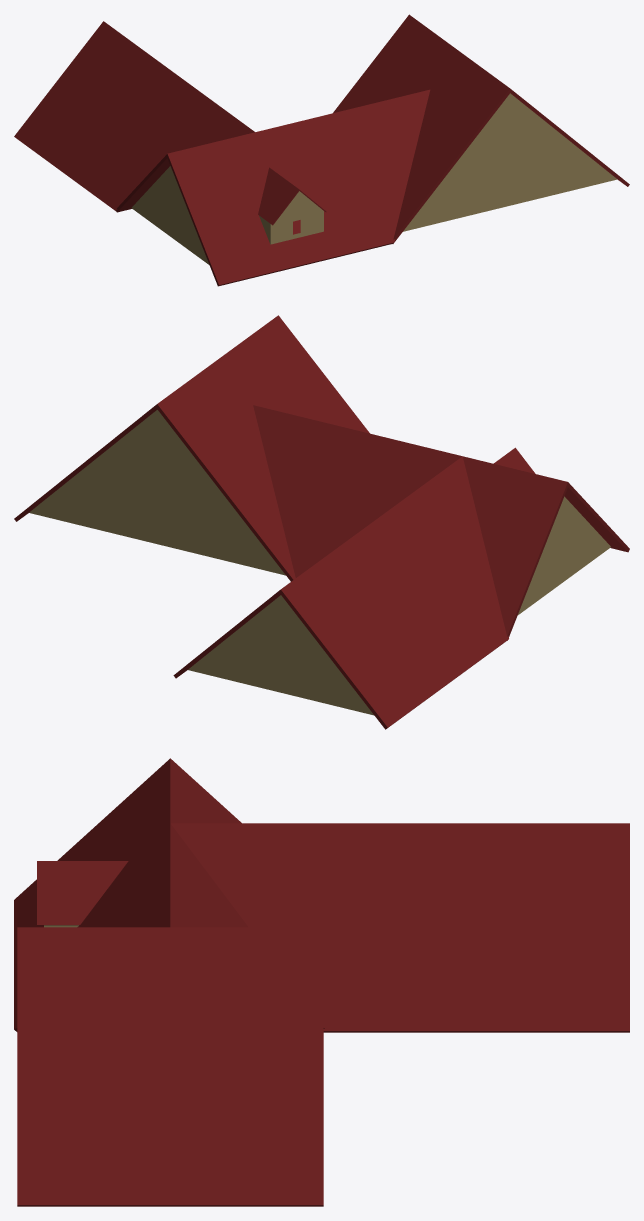
The model's file is Main_Roof.fbx.
3 renders of one model, top to bottom at view 1: azimuth 30°, elevation 25°; view 2: azimuth 150°, elevation 25°; view 3: azimuth 270°, elevation 25°, orthographic. The views are drawn at different scales.
Parts seen in each view (by area): view 1: ROOF 4 WIDE; view 2: ROOF 4 WIDE; view 3: ROOF 4 WIDE.
Boxes of the visible parts, x1,y1,x2,y2 form: ROOF 4 WIDE: (14,14,629,286); ROOF 4 WIDE: (14,315,629,729); ROOF 4 WIDE: (14,758,629,1206).
Size of the model in its own units: 1415 by 416 by 1206.
